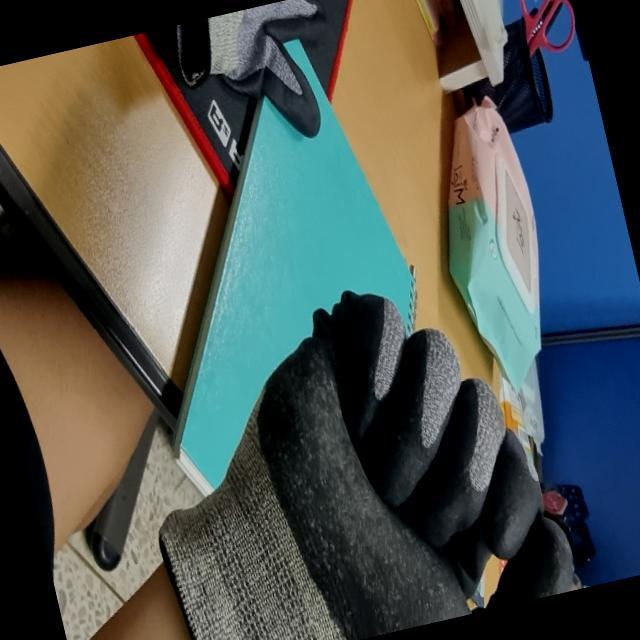Gloves: (165, 291, 538, 640), (168, 0, 321, 128)
